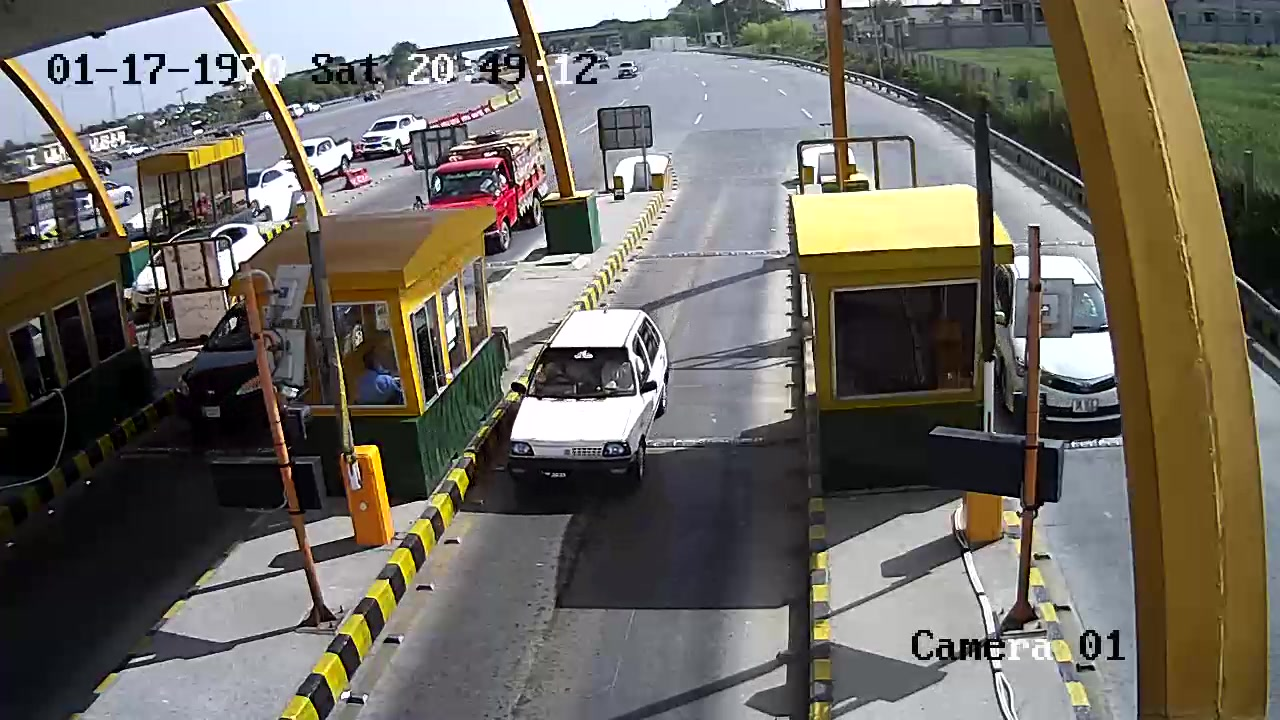F1: (495, 301, 680, 500)
